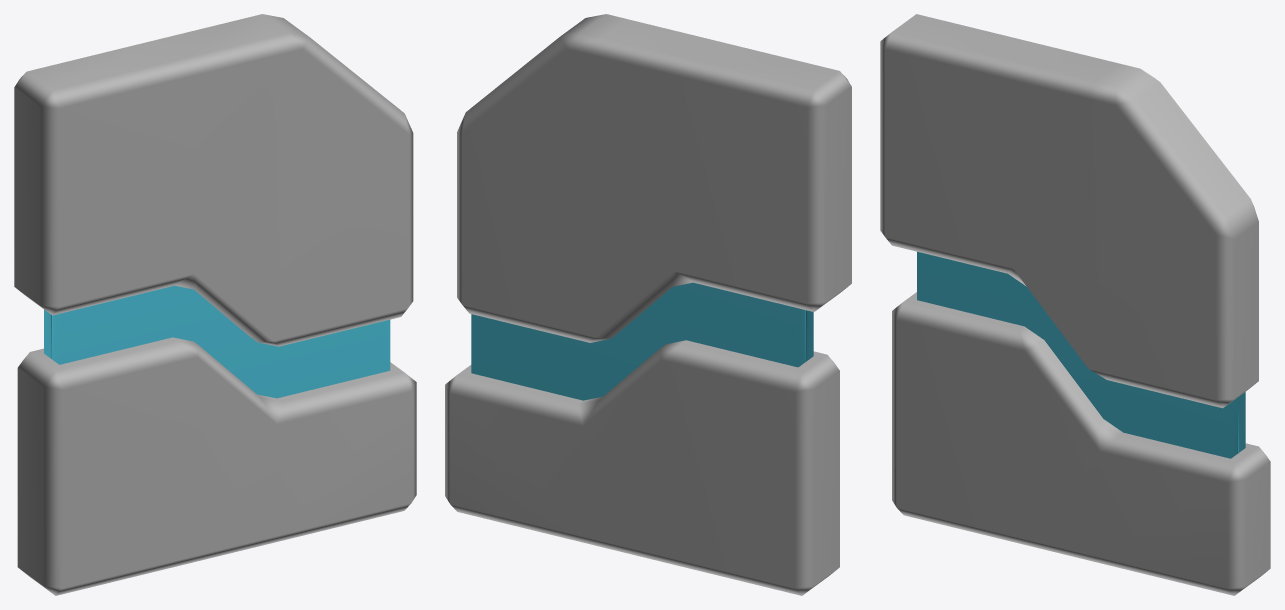
File: panel_007.fbx
The picture shows the model from 3 angles, left to right: view 1: azimuth 30°, elevation 25°; view 2: azimuth 150°, elevation 25°; view 3: azimuth 330°, elevation 25°; orthographic projection. The views are drawn at different scales.
Parts seen in each view (by area): view 1: panel_007; view 2: panel_007; view 3: panel_007.
Boxes of the visible parts, x1,y1,x2,y2 form: panel_007: (14,14,416,595); panel_007: (445,14,851,595); panel_007: (880,14,1270,595).
Size of the model in its own units: 489 by 99.18 by 626.
